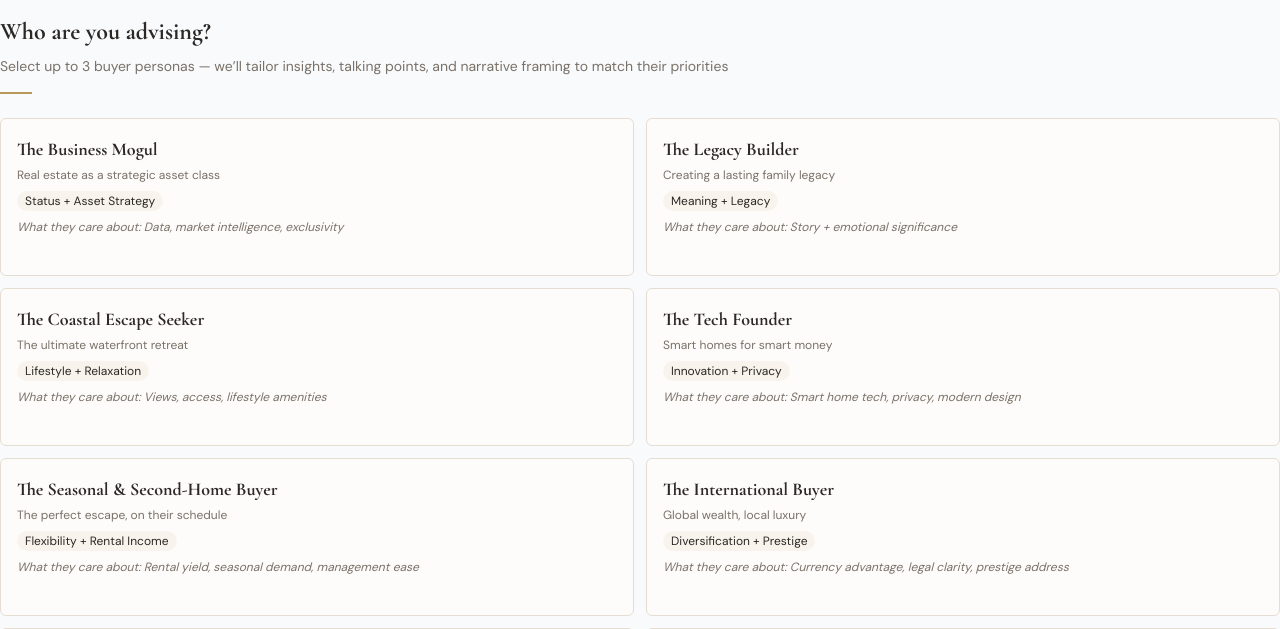
Step 4: Your Audience (#155) › StepYourAudience › CMP-155-22: panel shows overview
The width and height of the screenshot is (1280, 629).
Check: the heading "The Business Mogul" is shown, box [17,138,158,160]
What coordinates should you click on to do the following:
click the button with aria-label "View profile for"
I would click on:
 (317, 259)
Its box is [1,243,633,275].
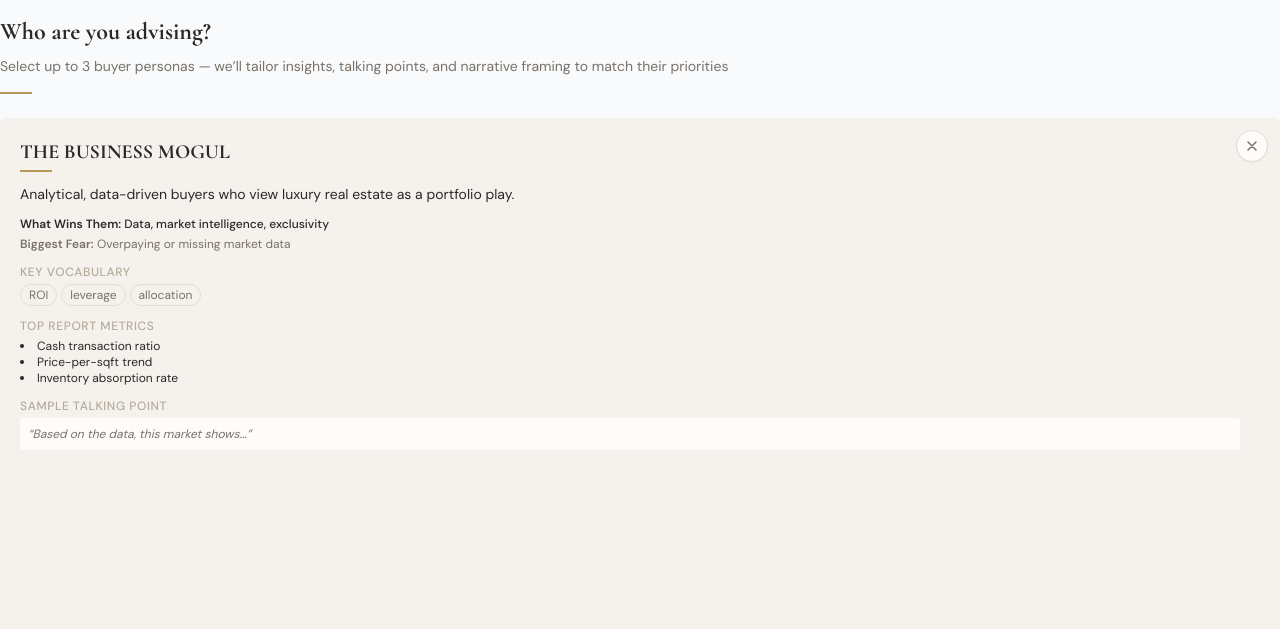
Check: the text "Analytical, data-driven buyers" is shown, box [20,185,514,203]
